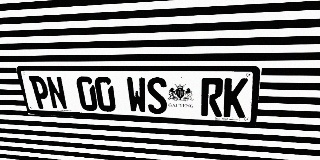0: (75, 76, 98, 111), (94, 77, 116, 112)
K: (223, 78, 248, 118)
N: (45, 76, 68, 110)
P: (28, 76, 52, 109)
R: (201, 78, 224, 117)
S: (146, 77, 168, 114)
W: (126, 77, 148, 113)
